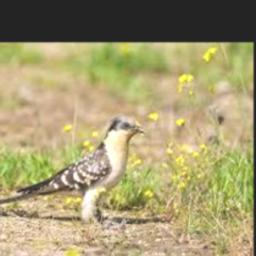Cuckoo: (0, 116, 145, 224)
